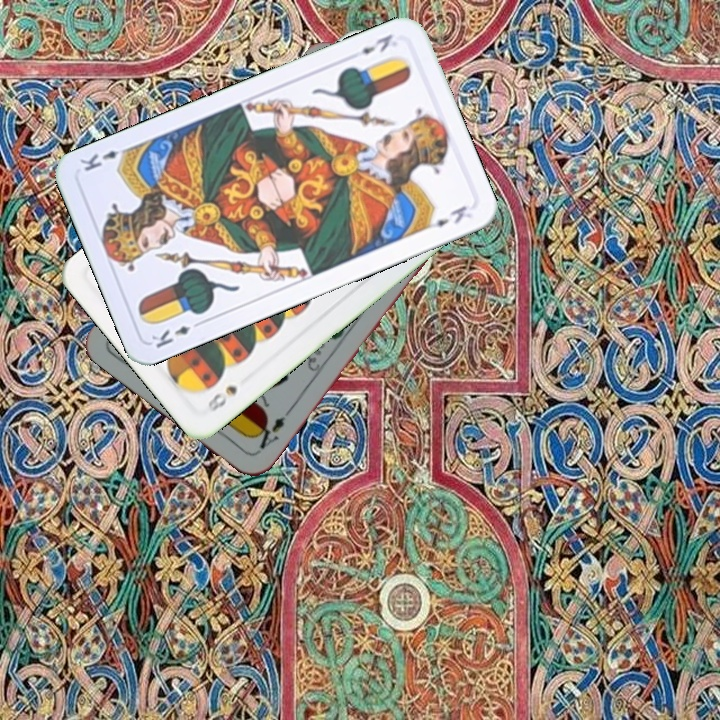EA: (248, 412, 288, 456)
EK: (147, 316, 205, 351), (357, 30, 396, 57)
S8: (203, 381, 240, 416)
